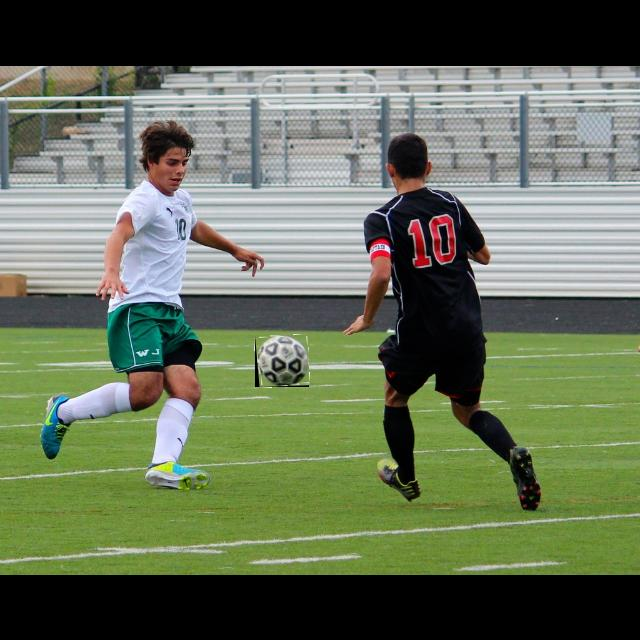Football: (255, 335, 309, 387)
